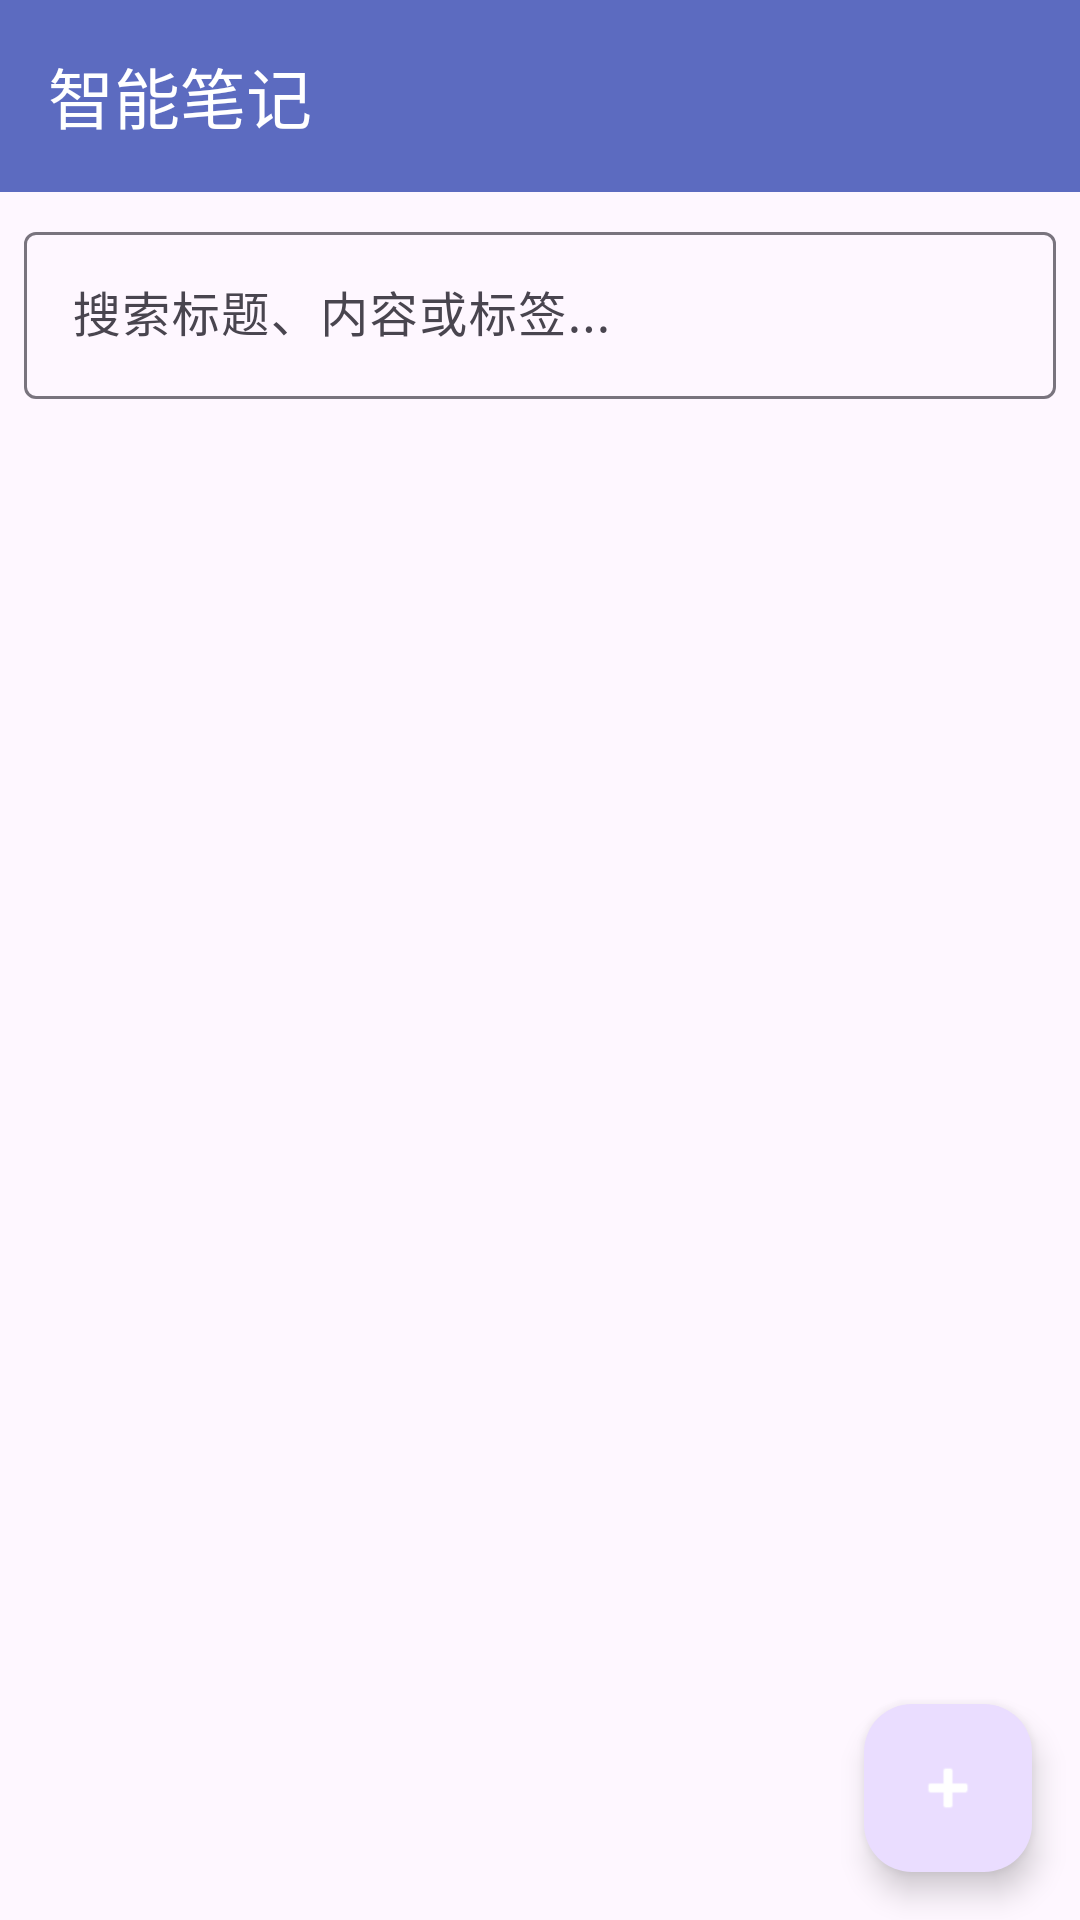

Point at icon controls on the screen. Image size 1080 x 1920, points as point (x, y).
新建笔记: point (948, 1788)
